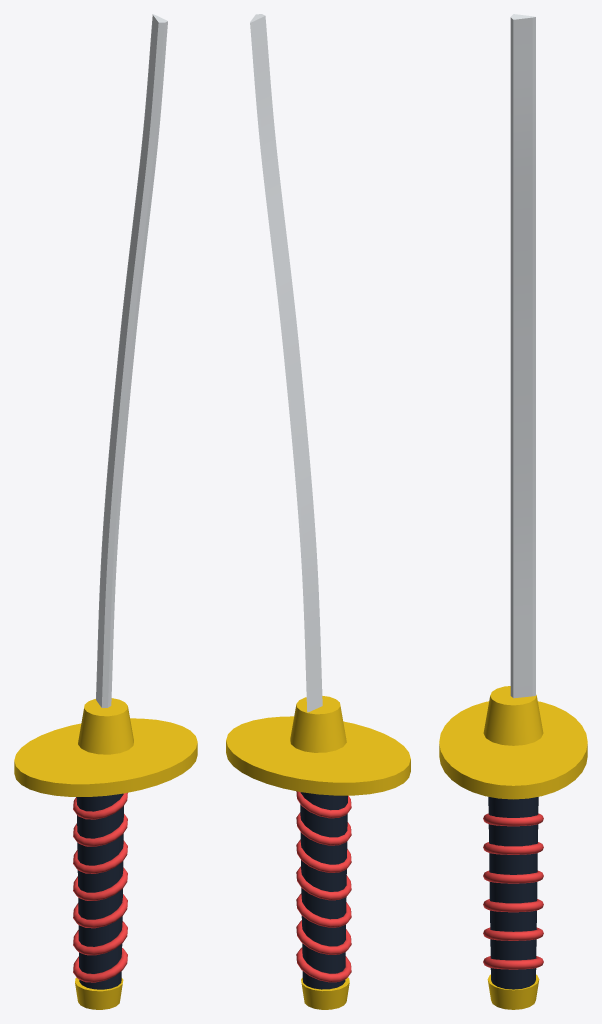
Rendered from sword.gltf.
3 renders of one model, left to right at view 1: azimuth 30°, elevation 25°; view 2: azimuth 150°, elevation 25°; view 3: azimuth 270°, elevation 25°, orthographic. The views are drawn at different scales.
Bounding box in the file's own units: 1.24 × 6.74 × 0.8928.
